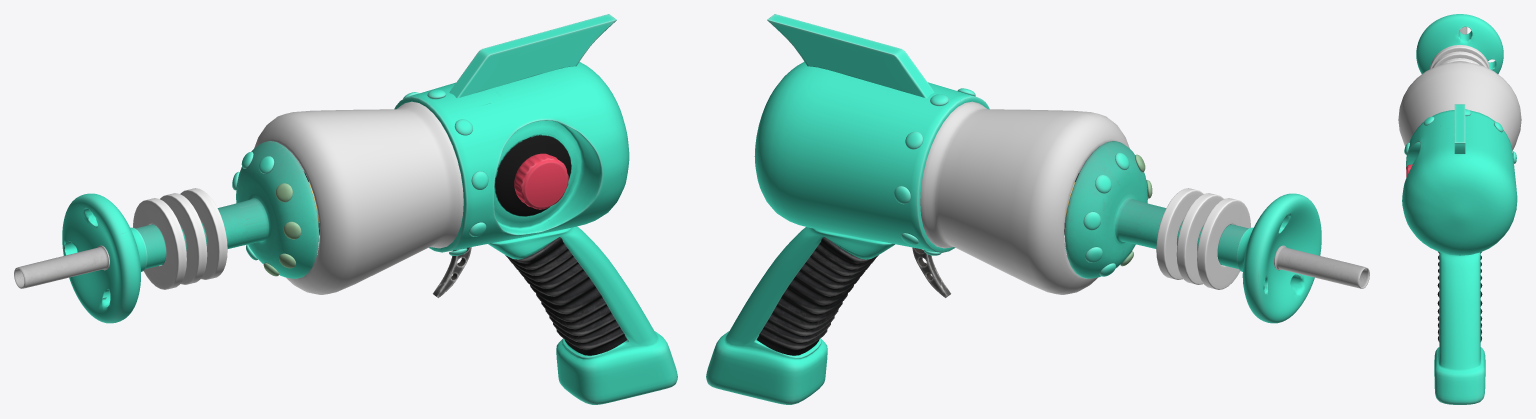
File: Laser_GunFinal.fbx
3 views of the same model, side by side, from view 1: azimuth 30°, elevation 25°; view 2: azimuth 150°, elevation 25°; view 3: azimuth 270°, elevation 25° (orthographic). The views are drawn at different scales.
Visible parts, largest first — view 1: Gun, Vidrio, Mango, Dial, Gatillo; view 2: Gun, Vidrio, Mango, Gatillo; view 3: Gun, Vidrio, Mango.
Part boxes in pixels (x1,y1,x2,y2): Gun: (14, 14, 677, 404); Vidrio: (254, 101, 463, 294); Mango: (505, 237, 627, 355); Dial: (514, 153, 568, 209); Gatillo: (433, 247, 471, 297); Gun: (706, 14, 1369, 404); Vidrio: (920, 101, 1129, 294); Mango: (756, 237, 878, 355); Gatillo: (912, 247, 950, 297); Gun: (1402, 14, 1517, 404); Vidrio: (1398, 62, 1521, 150); Mango: (1437, 251, 1482, 341).
Size of the model in its own units: 40 by 21.77 by 9.91.
